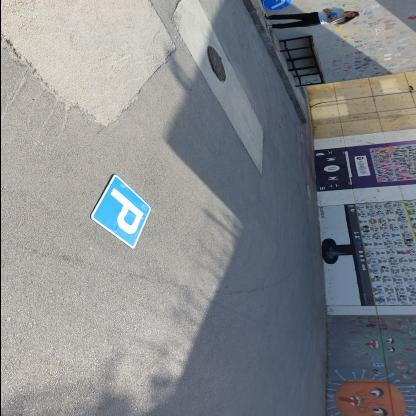Parking-Sign: (90, 175, 152, 250)
